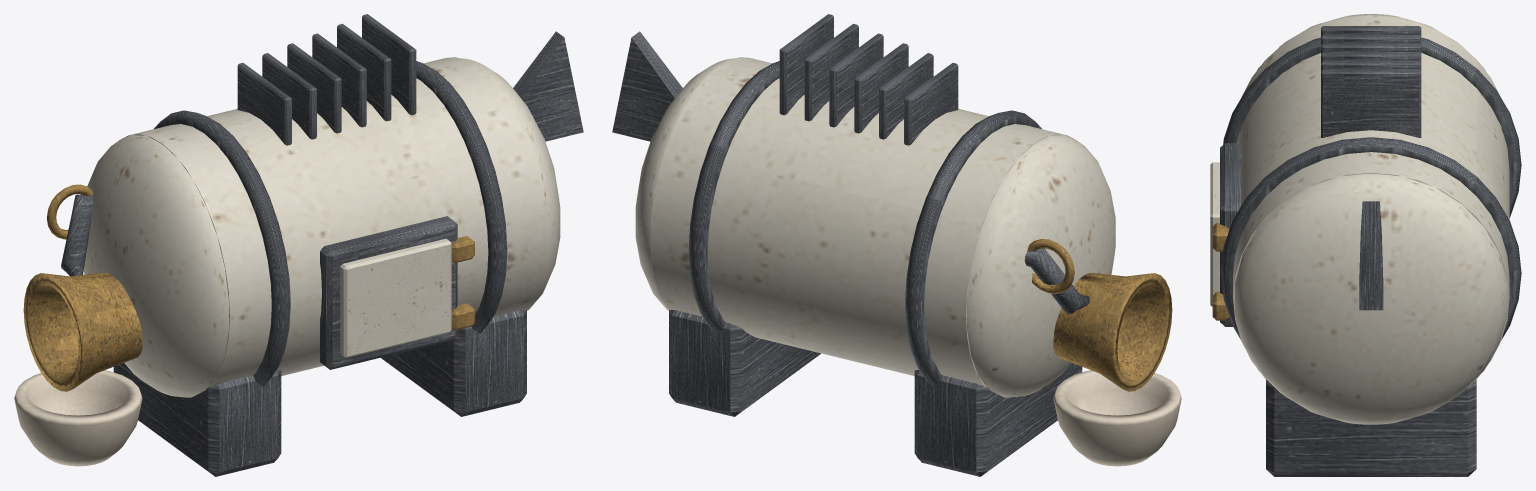
Rendered from revised-05-02.glb.
The picture shows the model from 3 angles, left to right: view 1: azimuth 30°, elevation 25°; view 2: azimuth 150°, elevation 25°; view 3: azimuth 270°, elevation 25°; orthographic projection. The views are drawn at different scales.
Visible parts, largest first — view 1: whale_stove; view 2: whale_stove; view 3: whale_stove.
Boxes of the visible parts, <box> form: whale_stove: <box>14,14,583,476</box>; whale_stove: <box>612,14,1181,476</box>; whale_stove: <box>1210,14,1521,476</box>.
Size of the model in its own units: 1.9 by 1.16 by 0.9005.
Materials: 2 (2 with a texture image).
